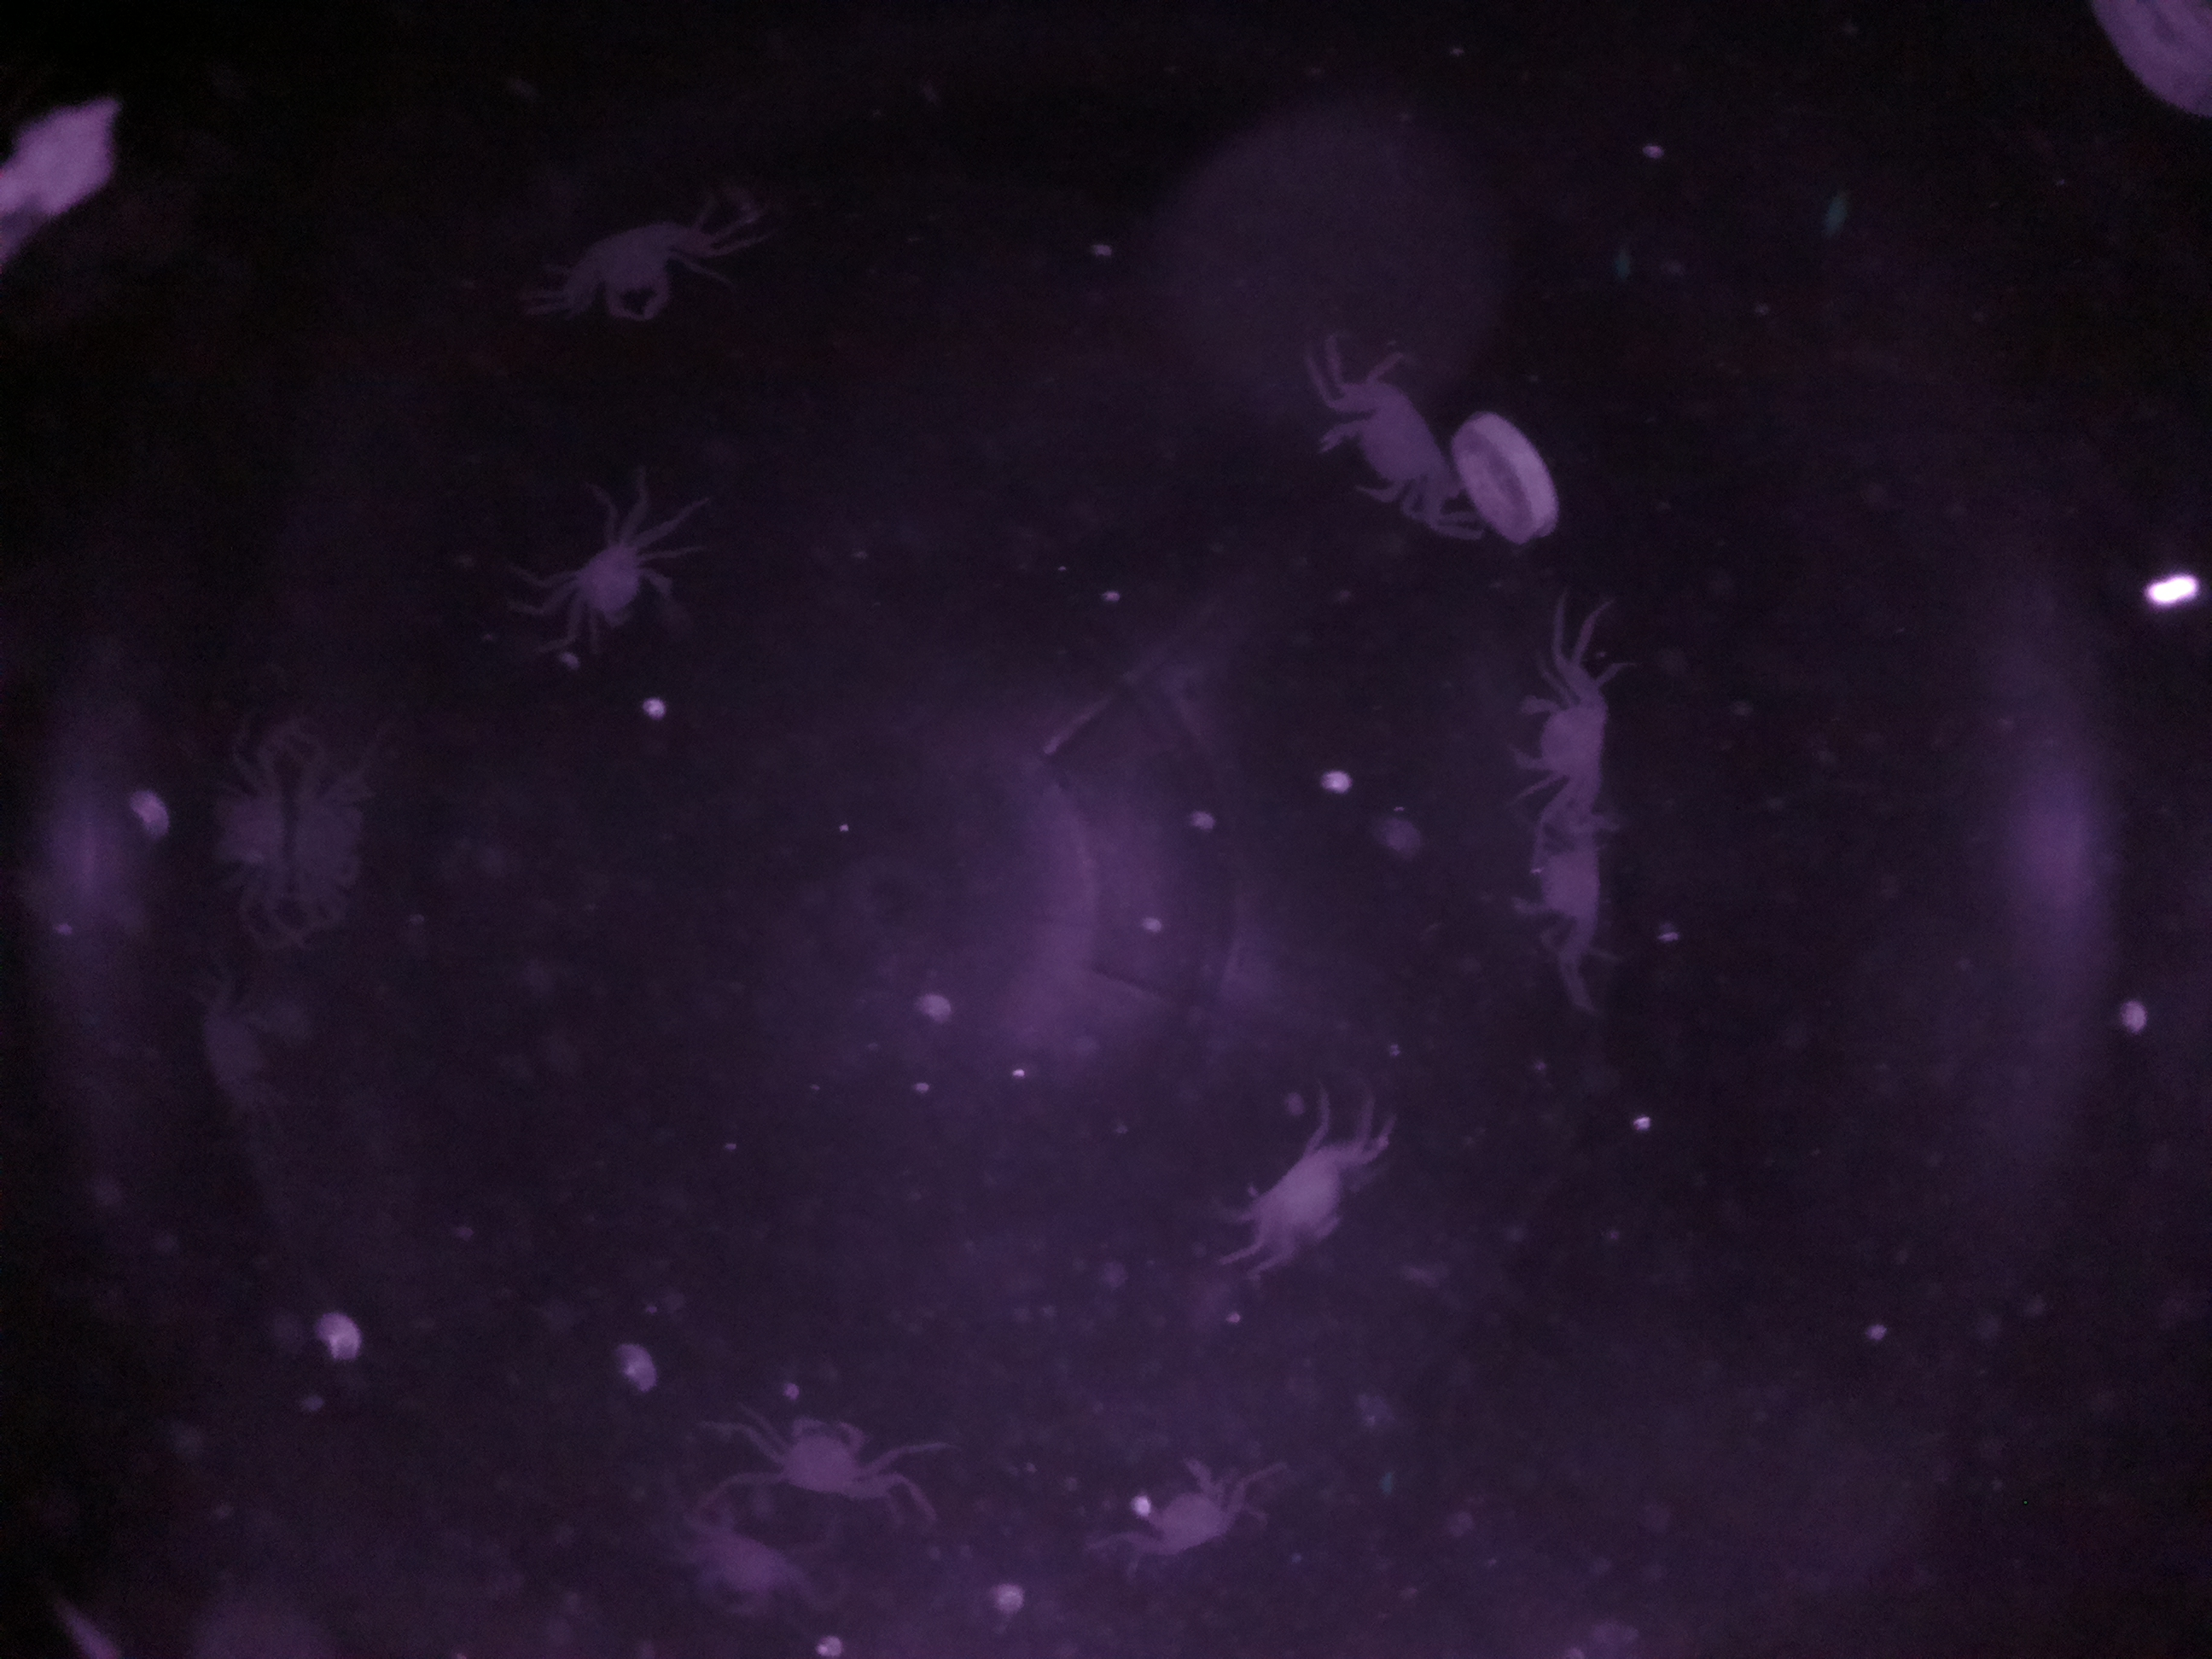Crab: (1299, 350, 1486, 537), (547, 167, 719, 342), (1221, 1108, 1397, 1274), (538, 493, 702, 664), (1493, 664, 1644, 821), (751, 1375, 894, 1530)
